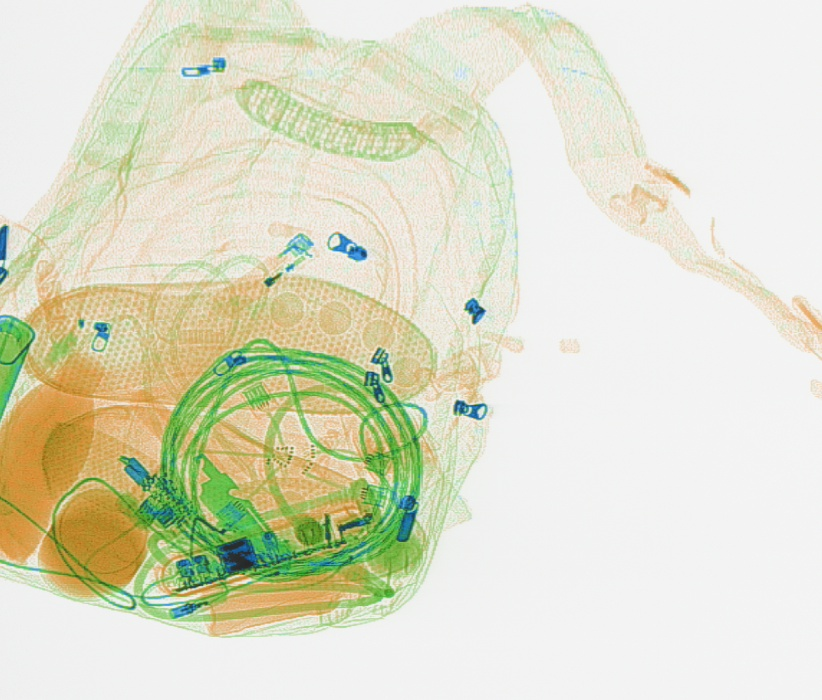knife: (125, 389, 288, 574)
lighter: (210, 229, 322, 317)
zippooil: (1, 314, 33, 428)
